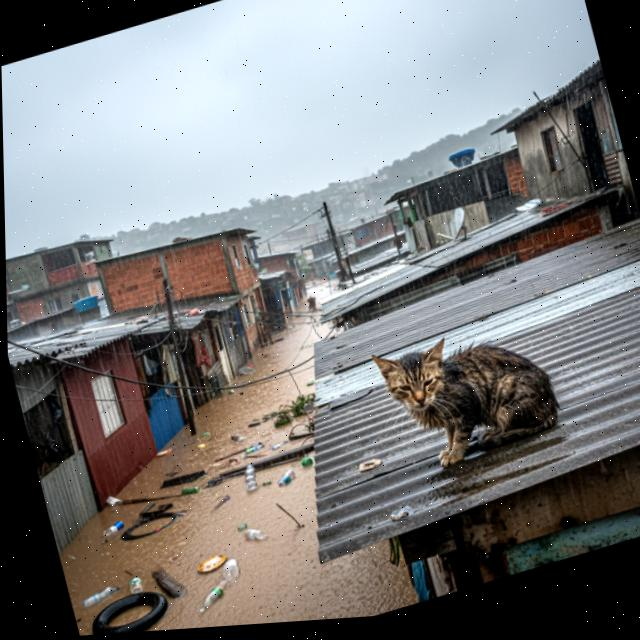cat: (360, 291, 588, 496)
